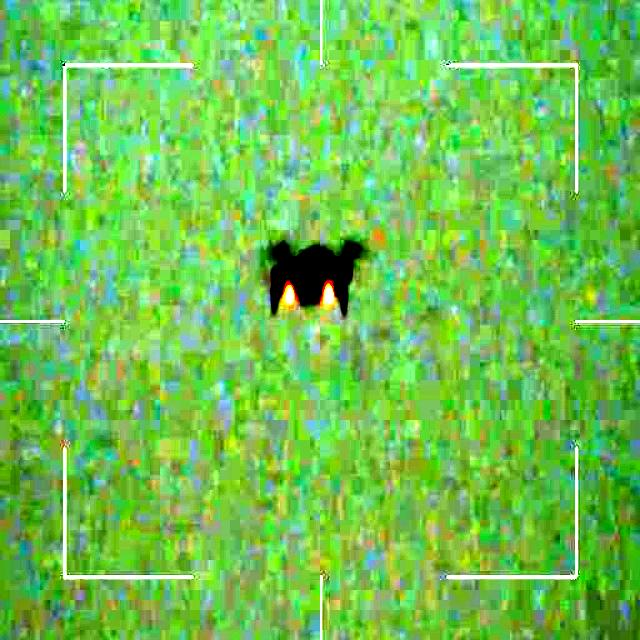bird: (264, 234, 364, 310)
